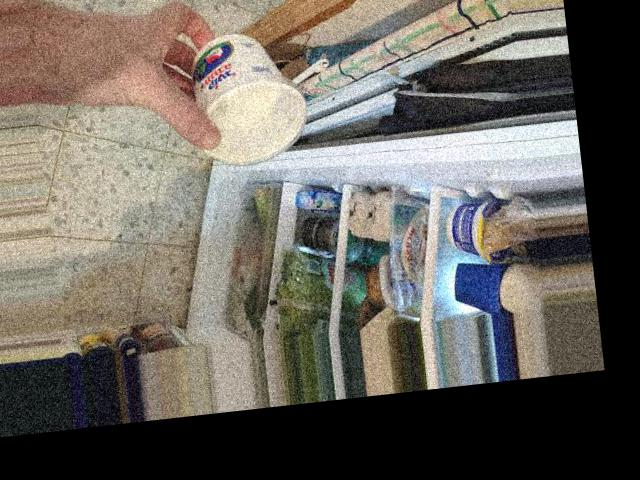cotage: (180, 27, 303, 158)
